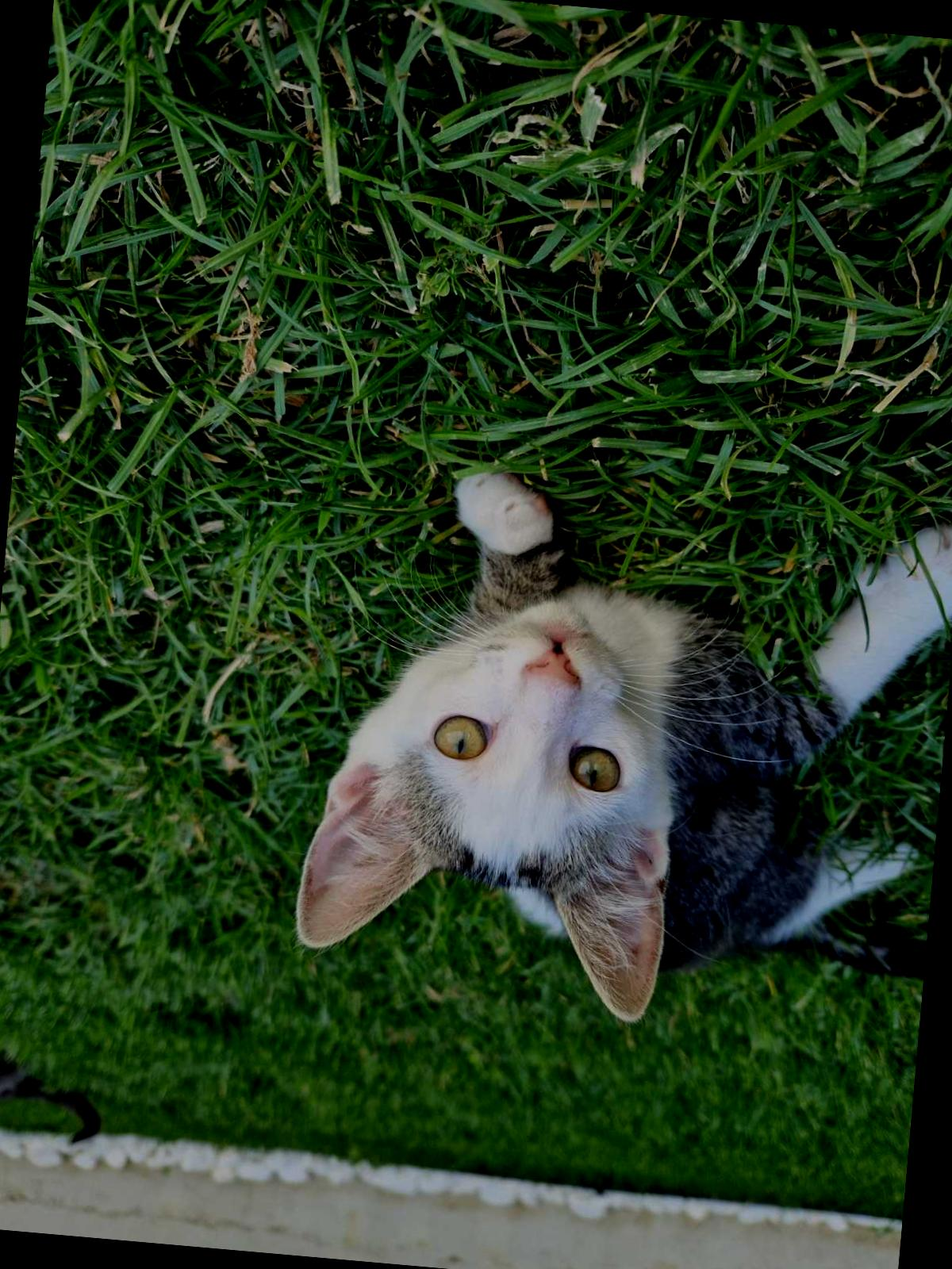macka: (288, 445, 952, 1054)
